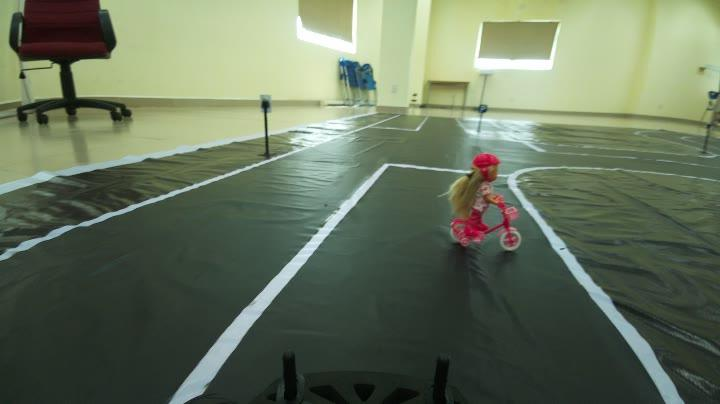pedestrian: (450, 154, 530, 252)
